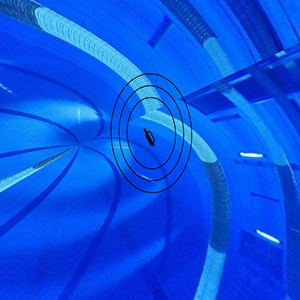circle: (109, 66, 195, 197)
submarine: (139, 125, 159, 152)
